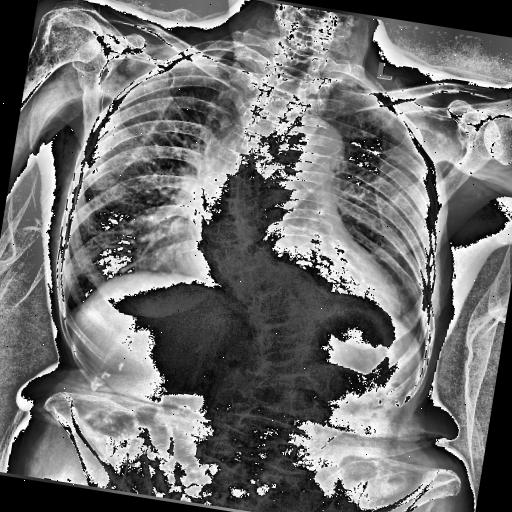0- Aortic enlargement: (269, 114, 346, 196), (268, 110, 350, 184), (273, 110, 346, 178)
10- Pleural effusion: (55, 302, 80, 335)
11- Pleural thickening: (328, 69, 392, 107), (55, 302, 80, 335)
3- Cardiomegaly: (169, 216, 408, 322), (173, 234, 404, 317), (182, 241, 406, 314)
9- Other lesion: (166, 58, 358, 384), (194, 102, 268, 298), (198, 102, 278, 274)
